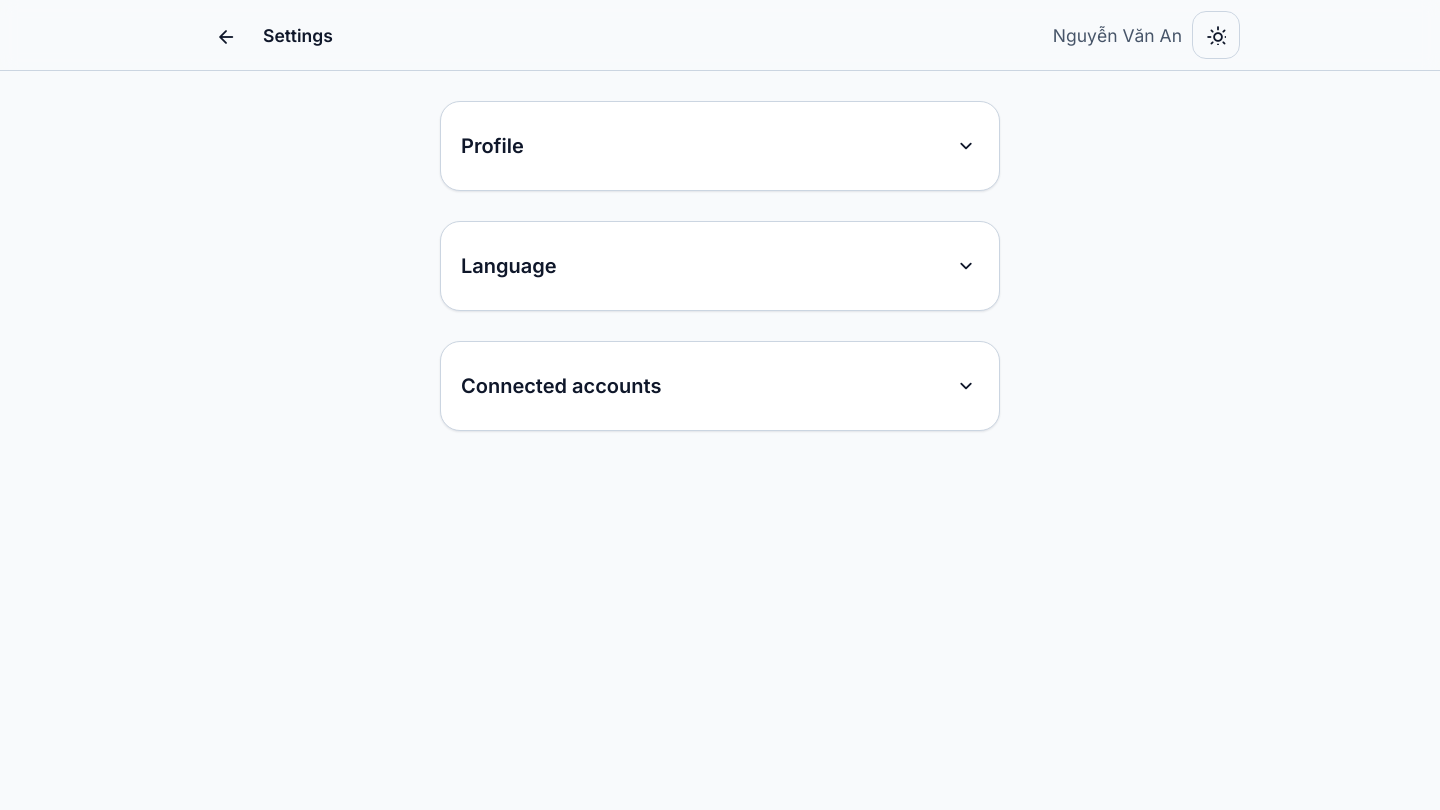
Test: SettingsPage profile name › lets a student rename themselves and refreshes their session profile
Click the button with aria-label "Profile settings" at (492, 146), box [461,122,979,170]
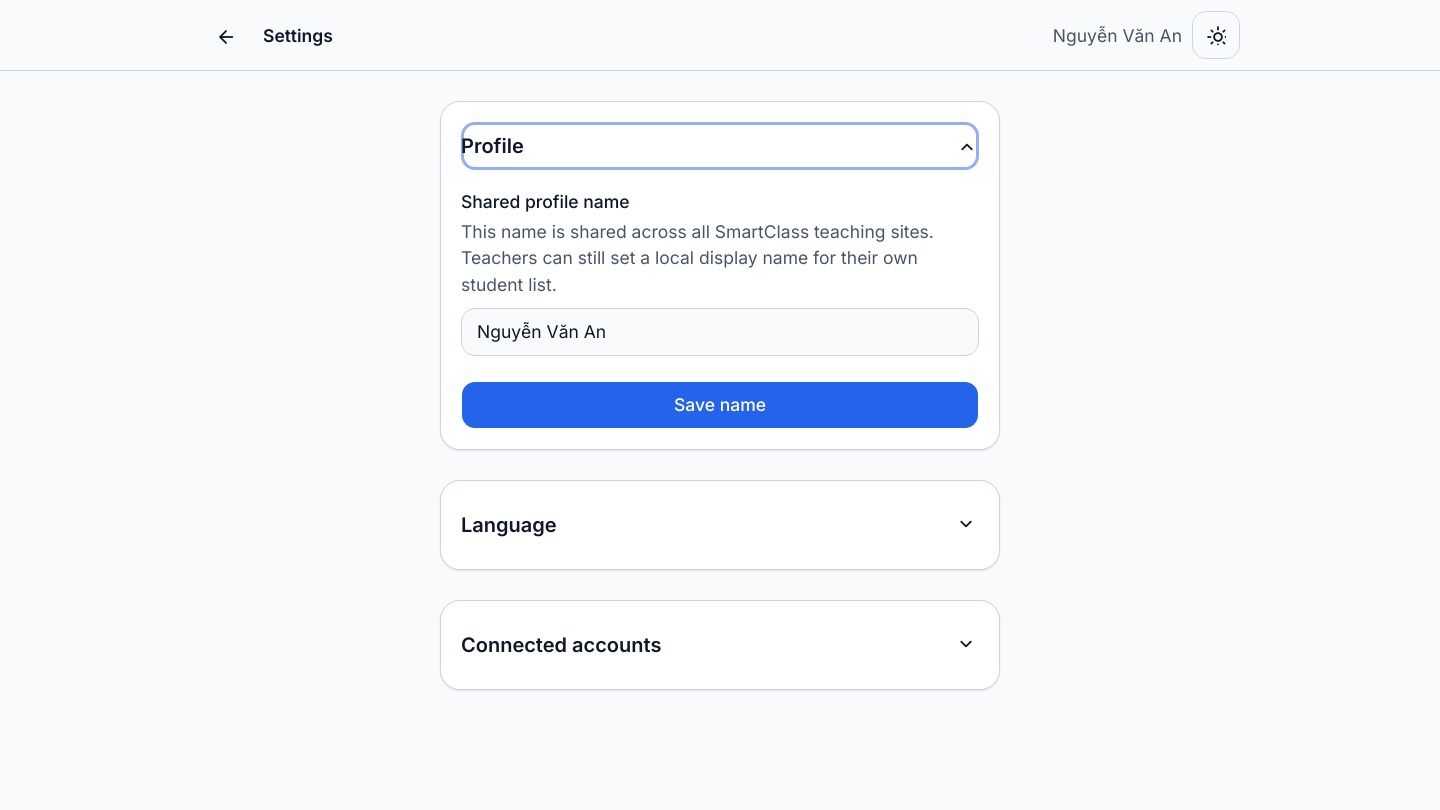
Check: the field labelled "Shared profile name" holds "Nguyễn Văn An"
Replace the text in the field labelled "Shared profile name" with "  Nguyễn An  " at (720, 332), box [461,308,979,356]
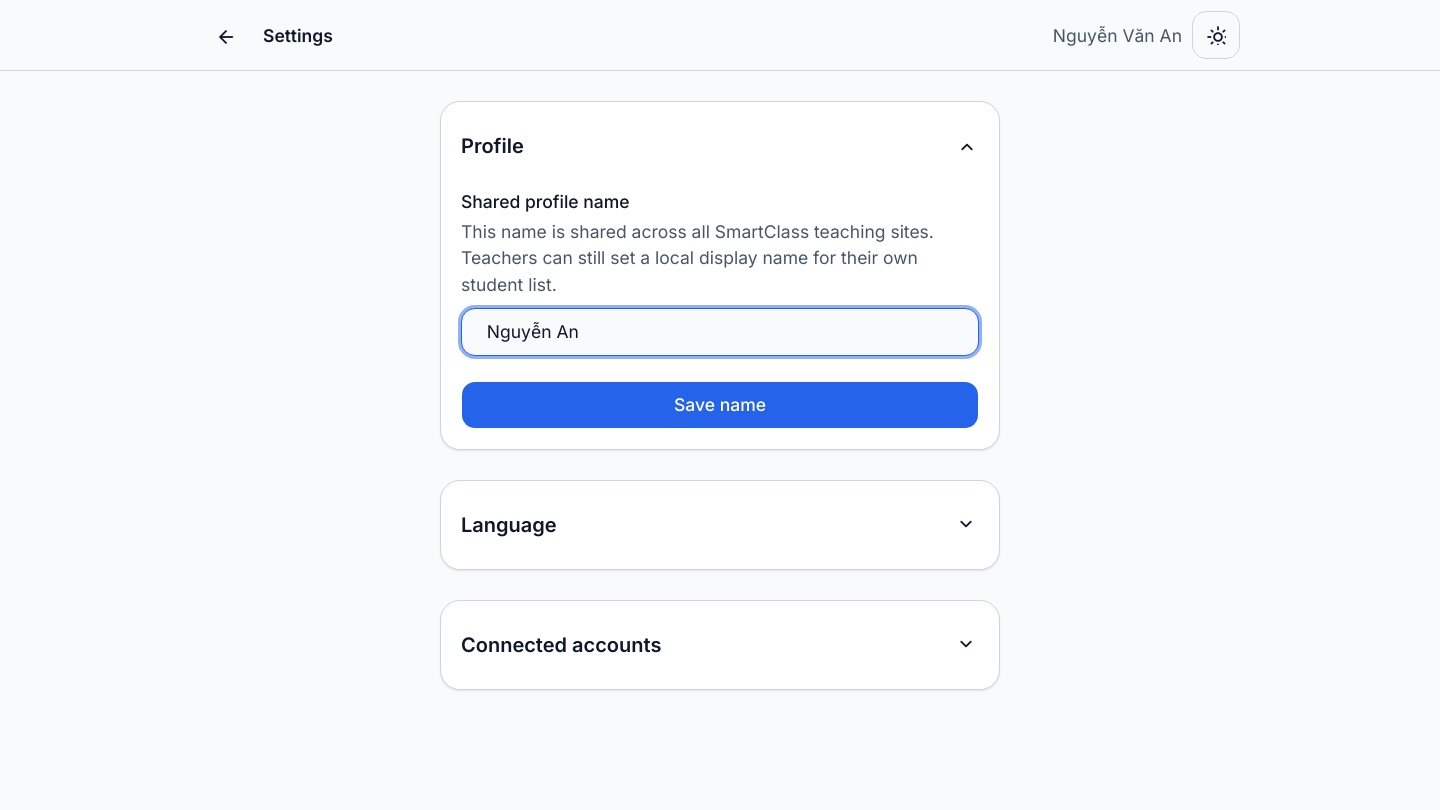
Click the button "Save name" at (720, 405), box [461,381,979,429]
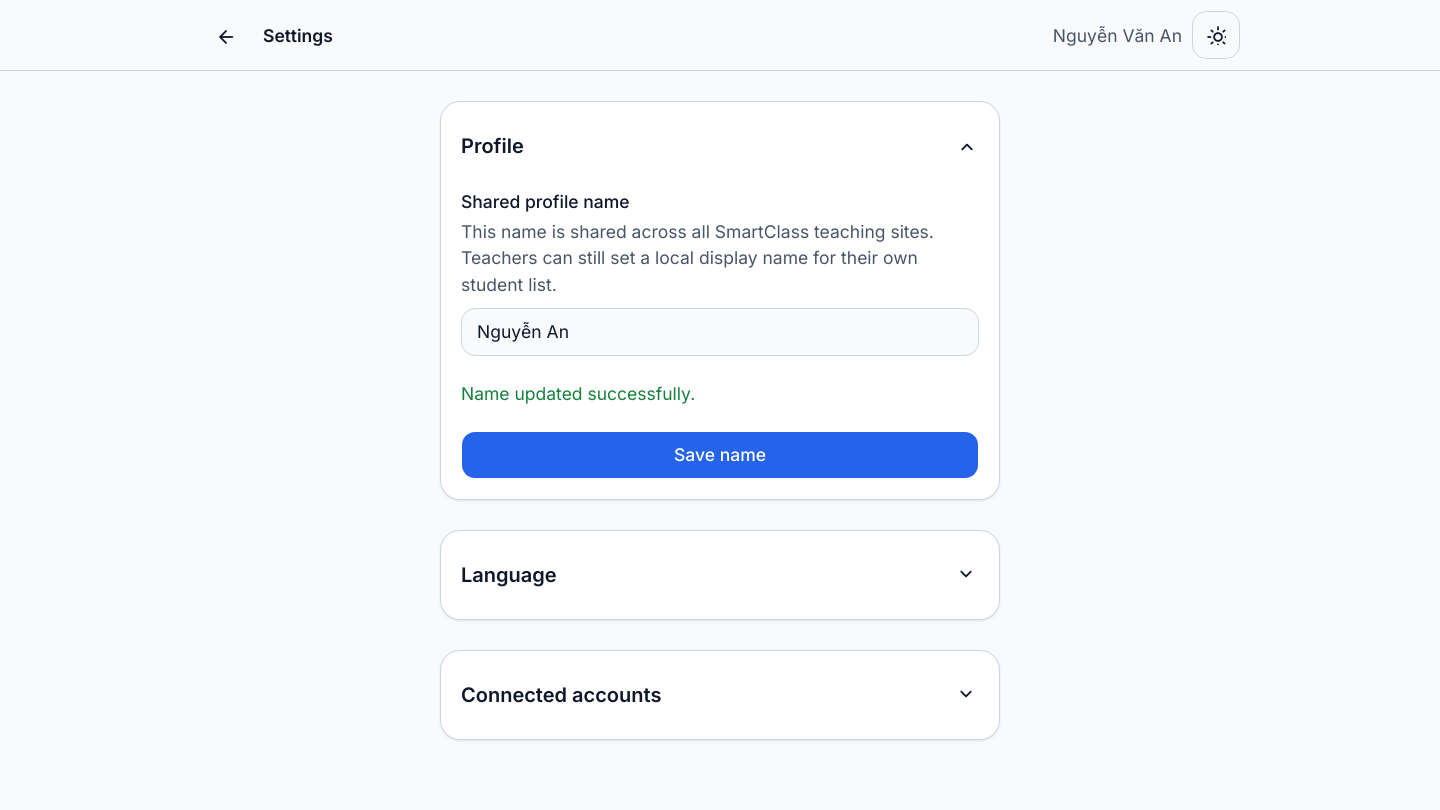
Check: the message reads "Name updated successfully.", box [461,383,695,404]
